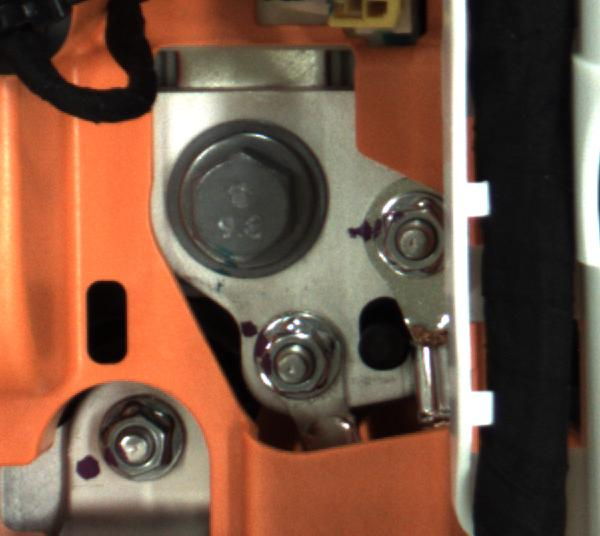nut_b: (158, 136, 321, 271)
screw_s: (89, 388, 203, 486), (258, 310, 351, 398), (367, 194, 438, 275)
